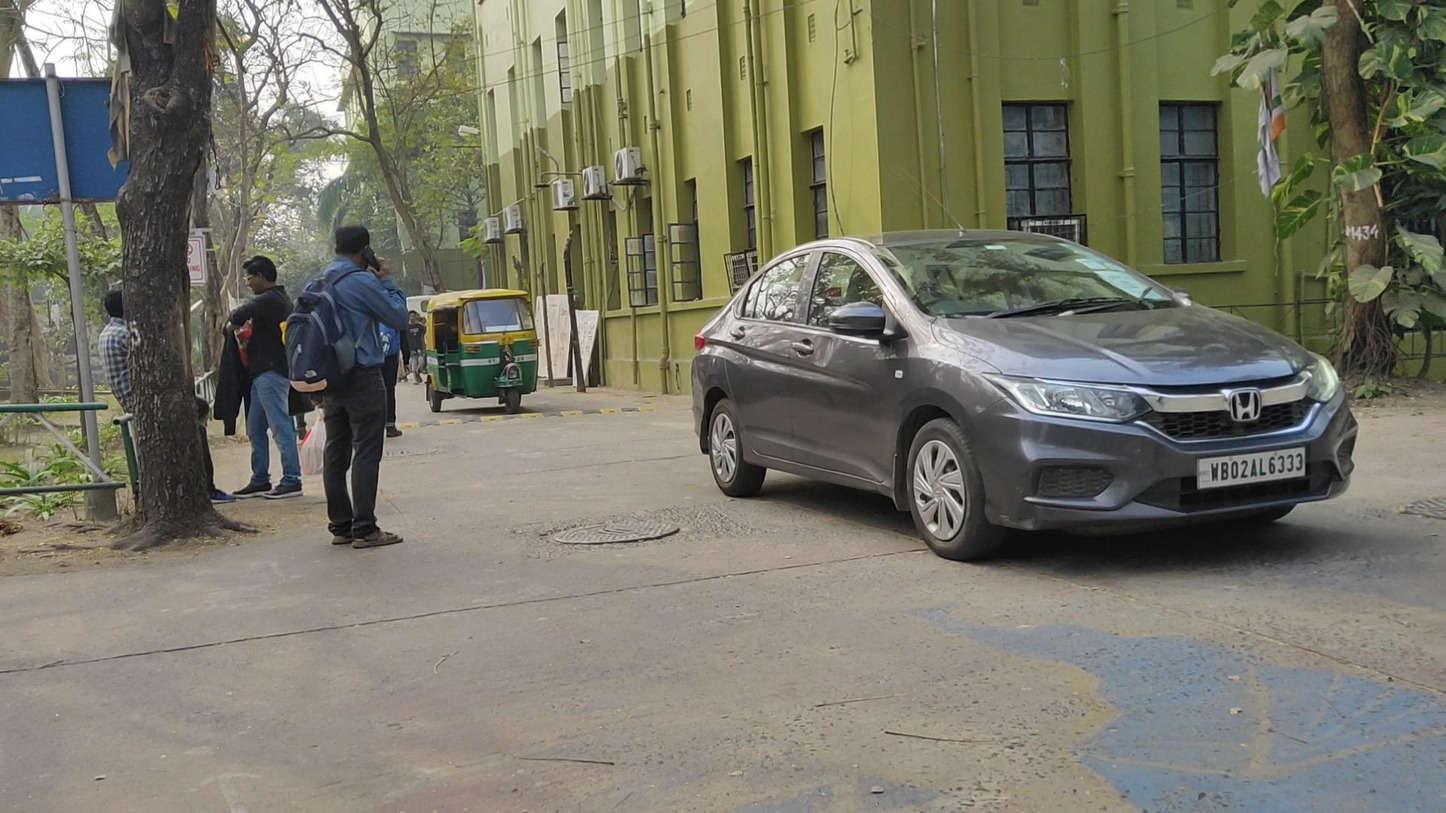Auto: (423, 288, 539, 413)
car: (691, 227, 1359, 562)
